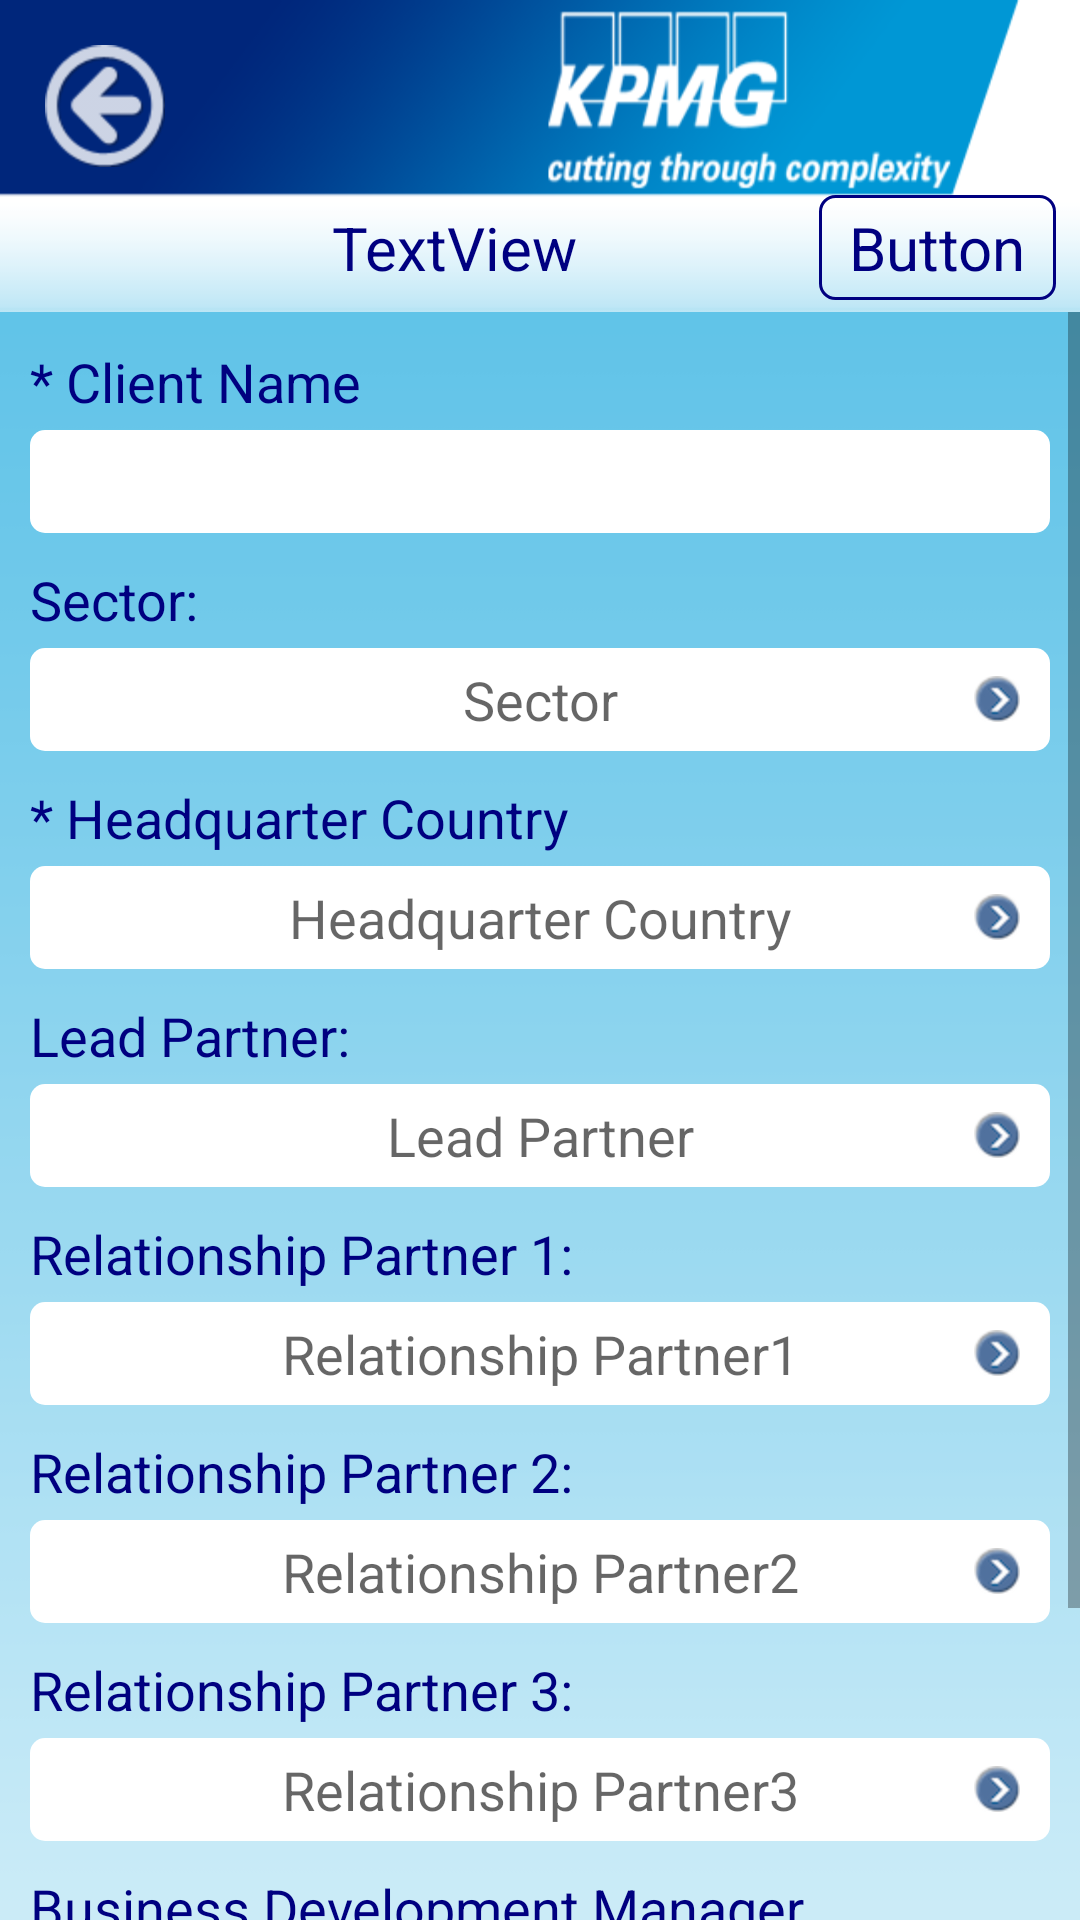

Icons on this 1080×1920 Android screen, each with its box as (x1, y1, x2, y2):
back: (45, 45, 165, 167)
